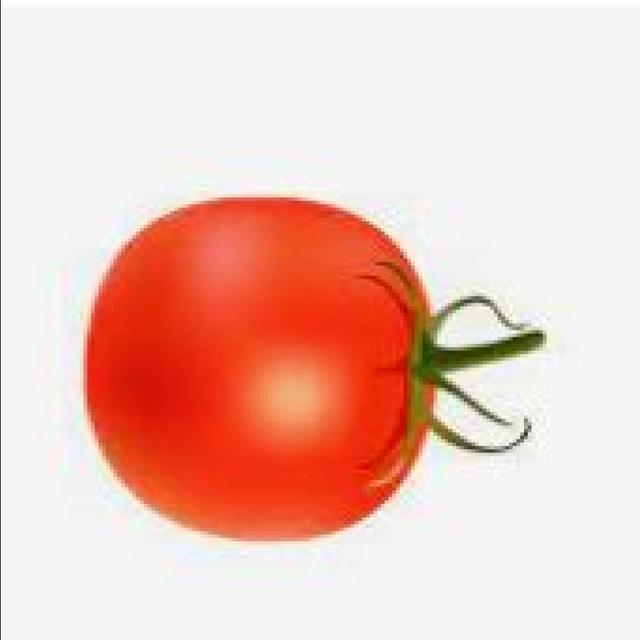Healthy Fruit: (36, 128, 324, 372)
